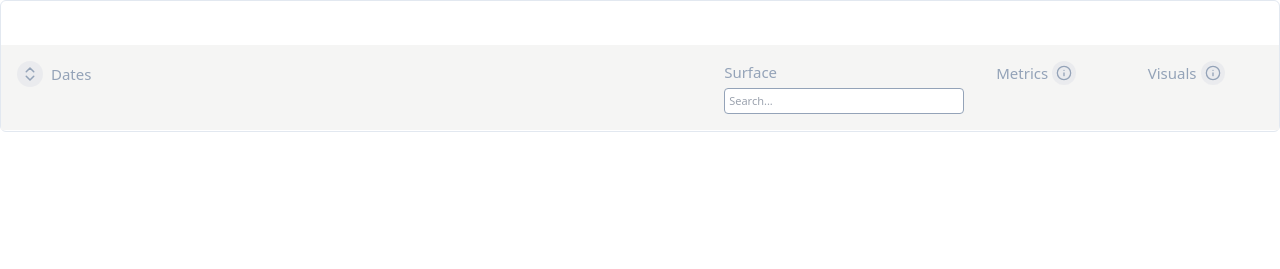
it: MessageTable › ExperimentColumns › displays CTR percentages when Looker dashboard exists and CTR is defined
Click the button with test id "toggleAllRowsButton". click: (30, 74)
box: [17, 61, 43, 87]
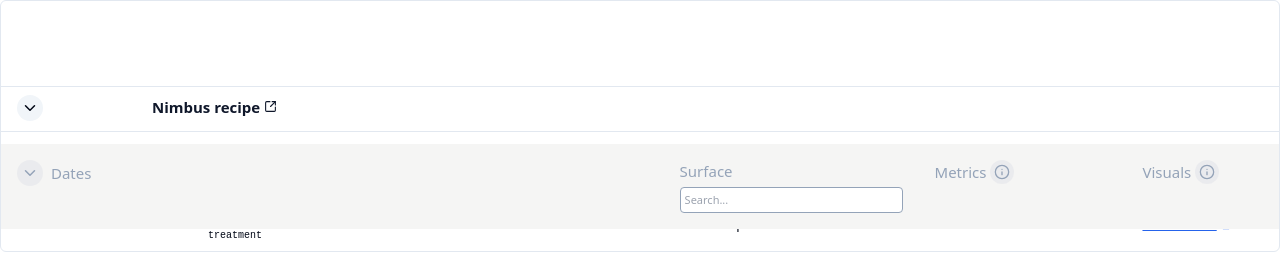
expect the link "12.35% CTR 12,899 impressions" is shown: met, box [934, 142, 1066, 185]
